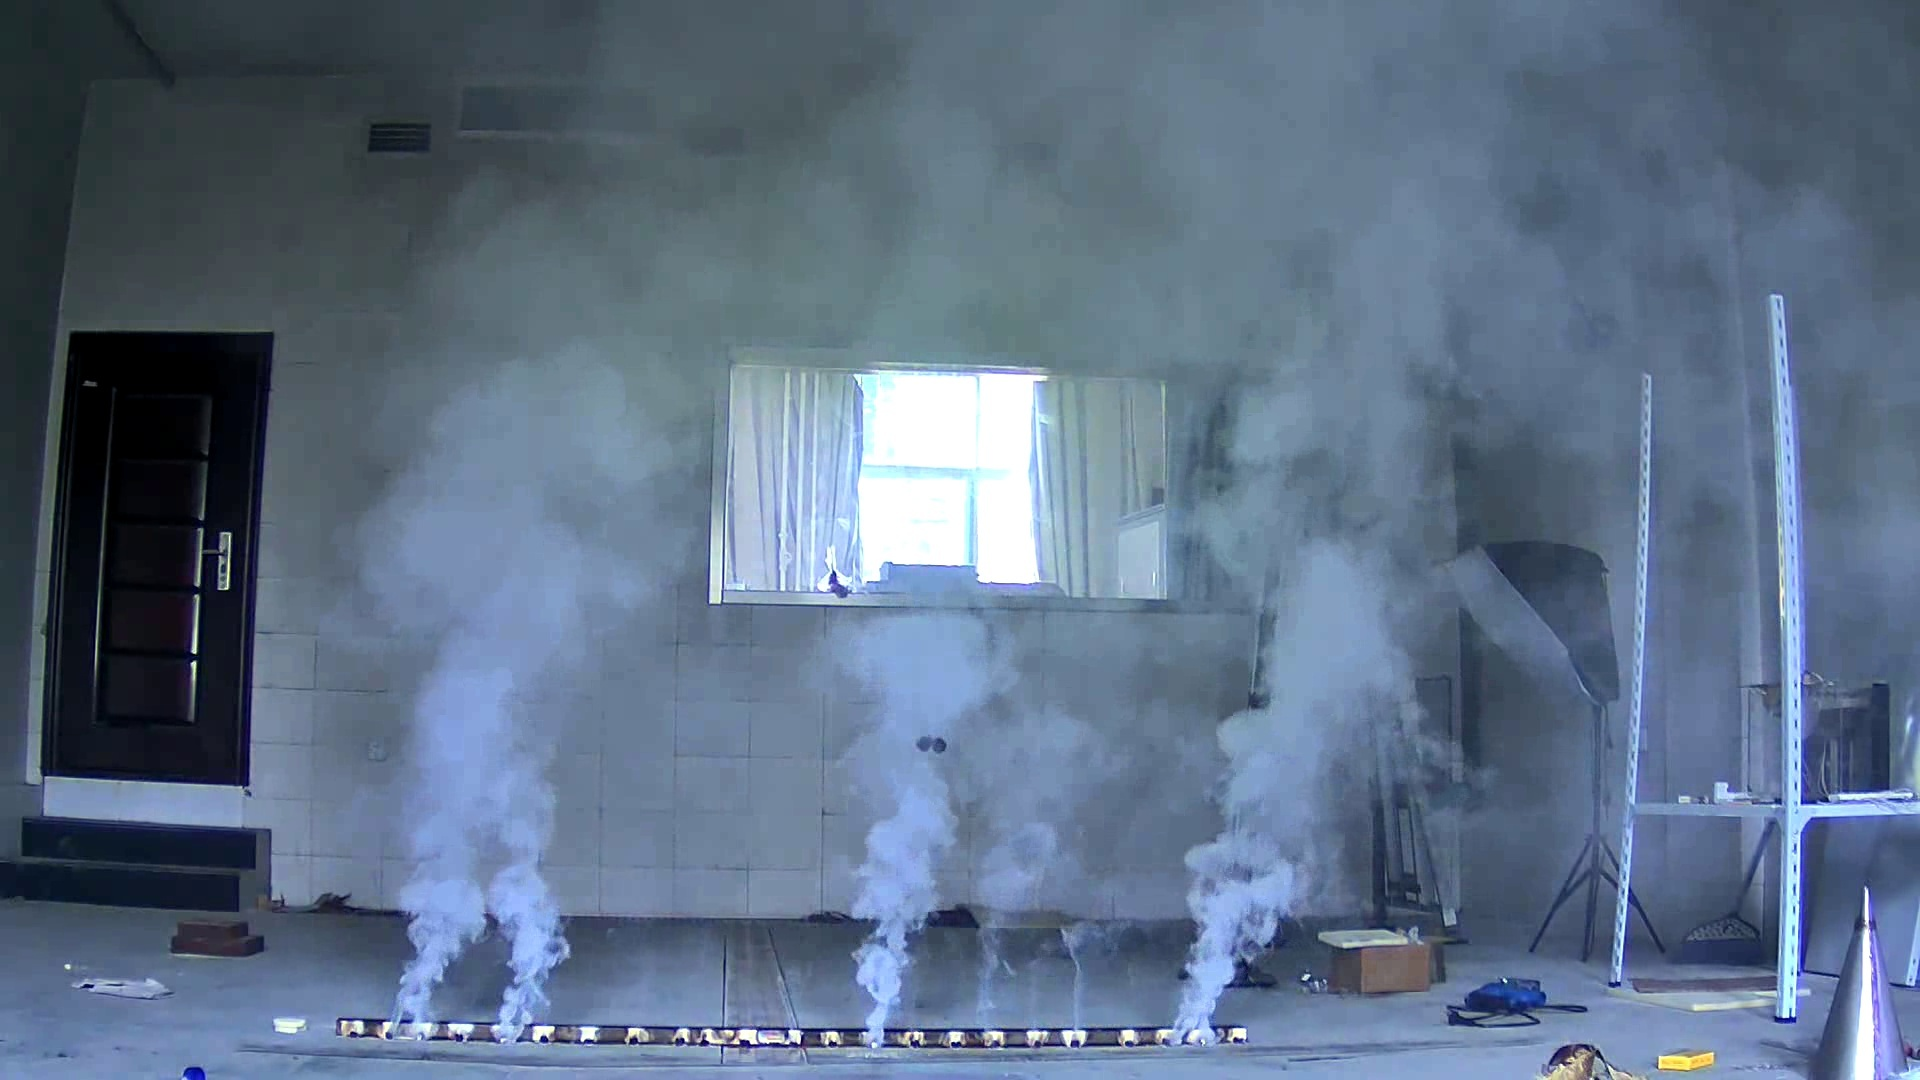smoke: (352, 182, 694, 1038), (1154, 328, 1486, 1048), (806, 580, 992, 1033)
